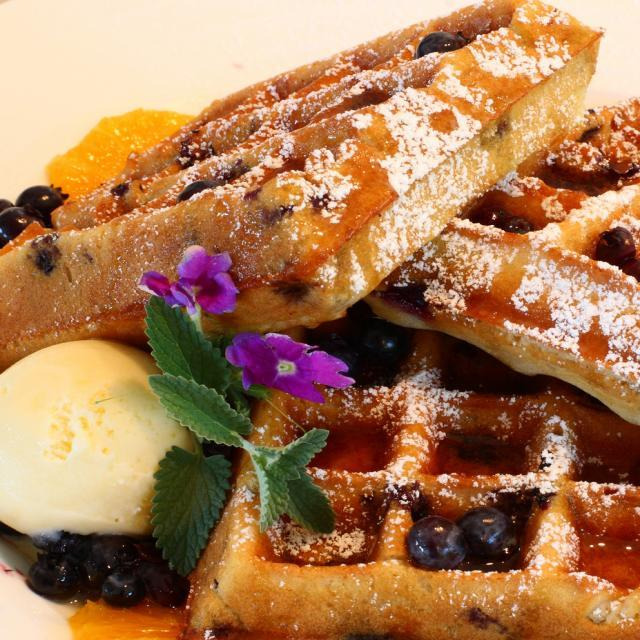Waffle: (0, 0, 604, 340), (186, 325, 640, 639), (355, 89, 639, 433)
